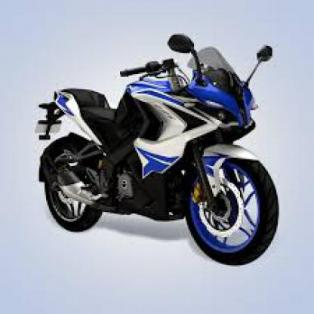Motocicleta: (27, 27, 296, 268)
